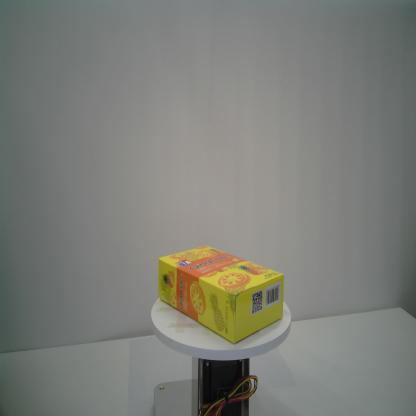Dessert: (156, 243, 286, 345)
